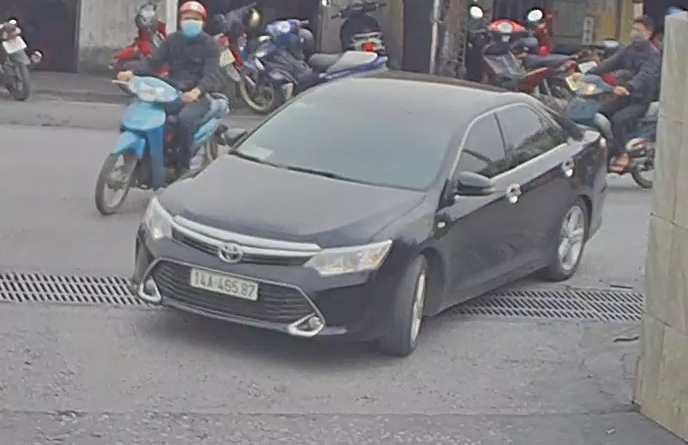vehicle plate: (185, 263, 261, 300)
